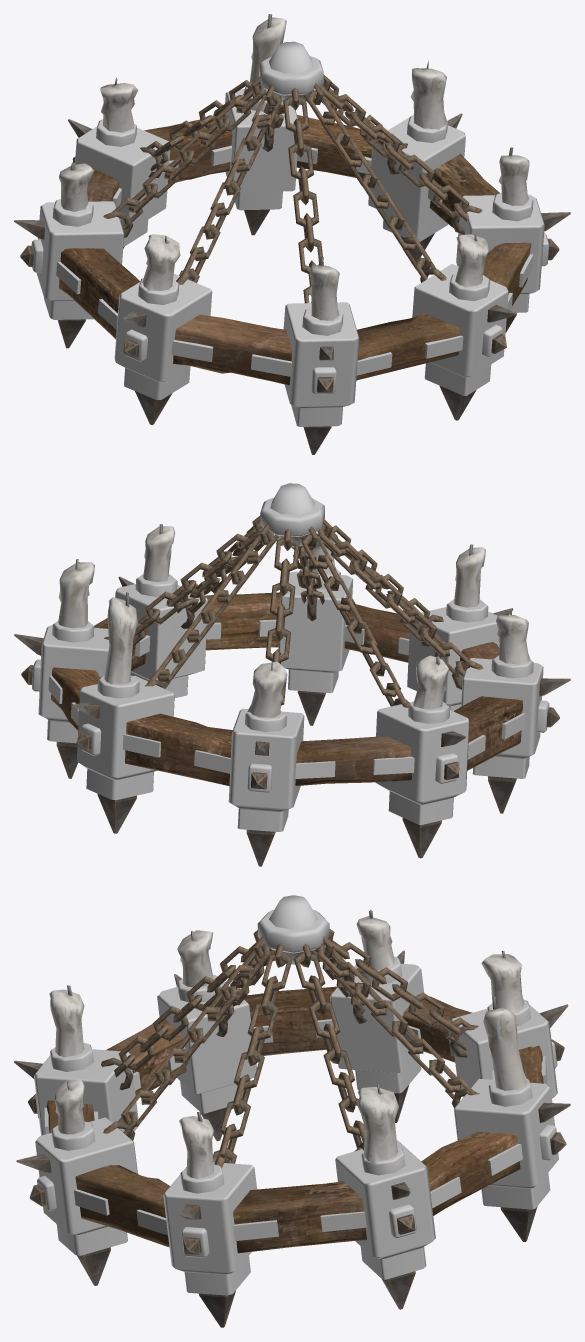
The picture shows the model from 3 angles, top to bottom: view 1: azimuth 30°, elevation 25°; view 2: azimuth 150°, elevation 25°; view 3: azimuth 270°, elevation 25°; orthographic projection. The views are drawn at different scales.
Visible parts, largest first — view 1: SM_DR_Chandelier_01_LOD0; view 2: SM_DR_Chandelier_01_LOD0; view 3: SM_DR_Chandelier_01_LOD0.
Boxes of the visible parts, box(x1,y1,x2,y2) form: SM_DR_Chandelier_01_LOD0: box(14, 14, 570, 454); SM_DR_Chandelier_01_LOD0: box(14, 483, 570, 866); SM_DR_Chandelier_01_LOD0: box(14, 895, 570, 1327).
Size of the model in its own units: 1.5 by 1.02 by 1.49.
